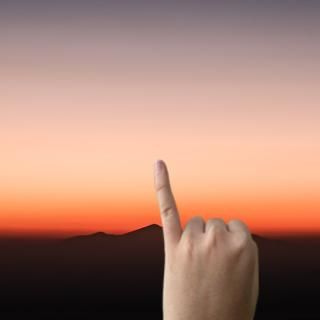Fine: (141, 148, 264, 312)
